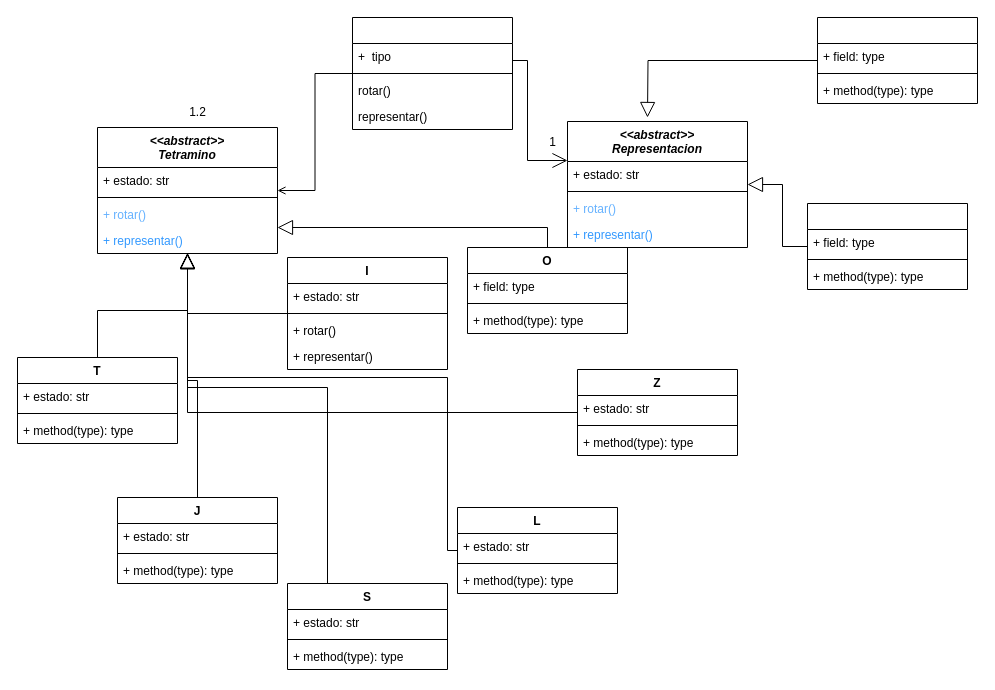
This 995x690 diagram has some shape labels left out. Each missing label, with the box of its shape:
Archivos: (806, 202, 968, 290)
Consola: (816, 16, 978, 104)
Juego: (352, 16, 512, 130)
